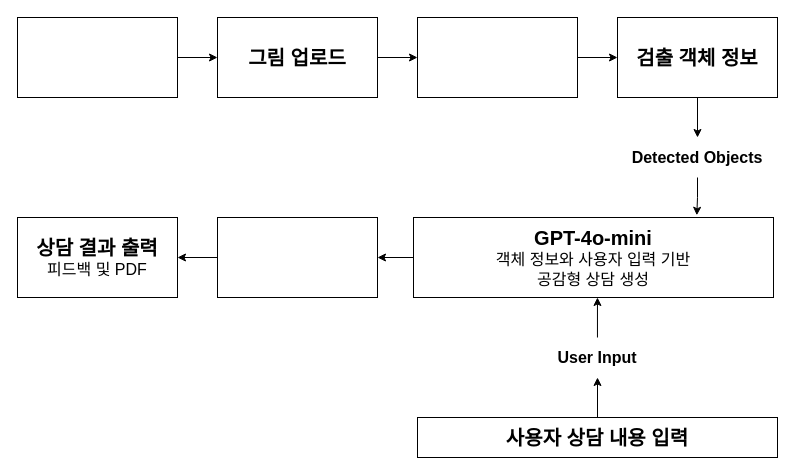
Image size: 795x475. Some labels were removed from this diagram. The shapes that lost their labels are listed below. From the top down, each one's box as (x1, y1, x2, y2) in pixels, then its label:
(16, 16, 178, 98): 프로그램 실행
(416, 16, 578, 98): YOLOv8 객체 검출
(216, 216, 378, 298): PDF 보고서 생성 FPDF
